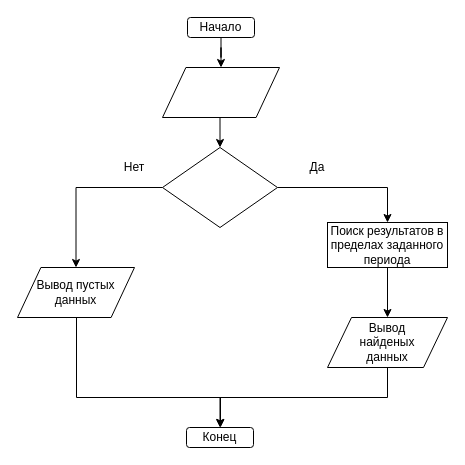
Image size: 465x465. Some labels were removed from this diagram. The centre of each missing label's shape, as x and y in pixels:
Введены корректные данные: point 220,187
Ввод даты для анализа данных: point 221,92
